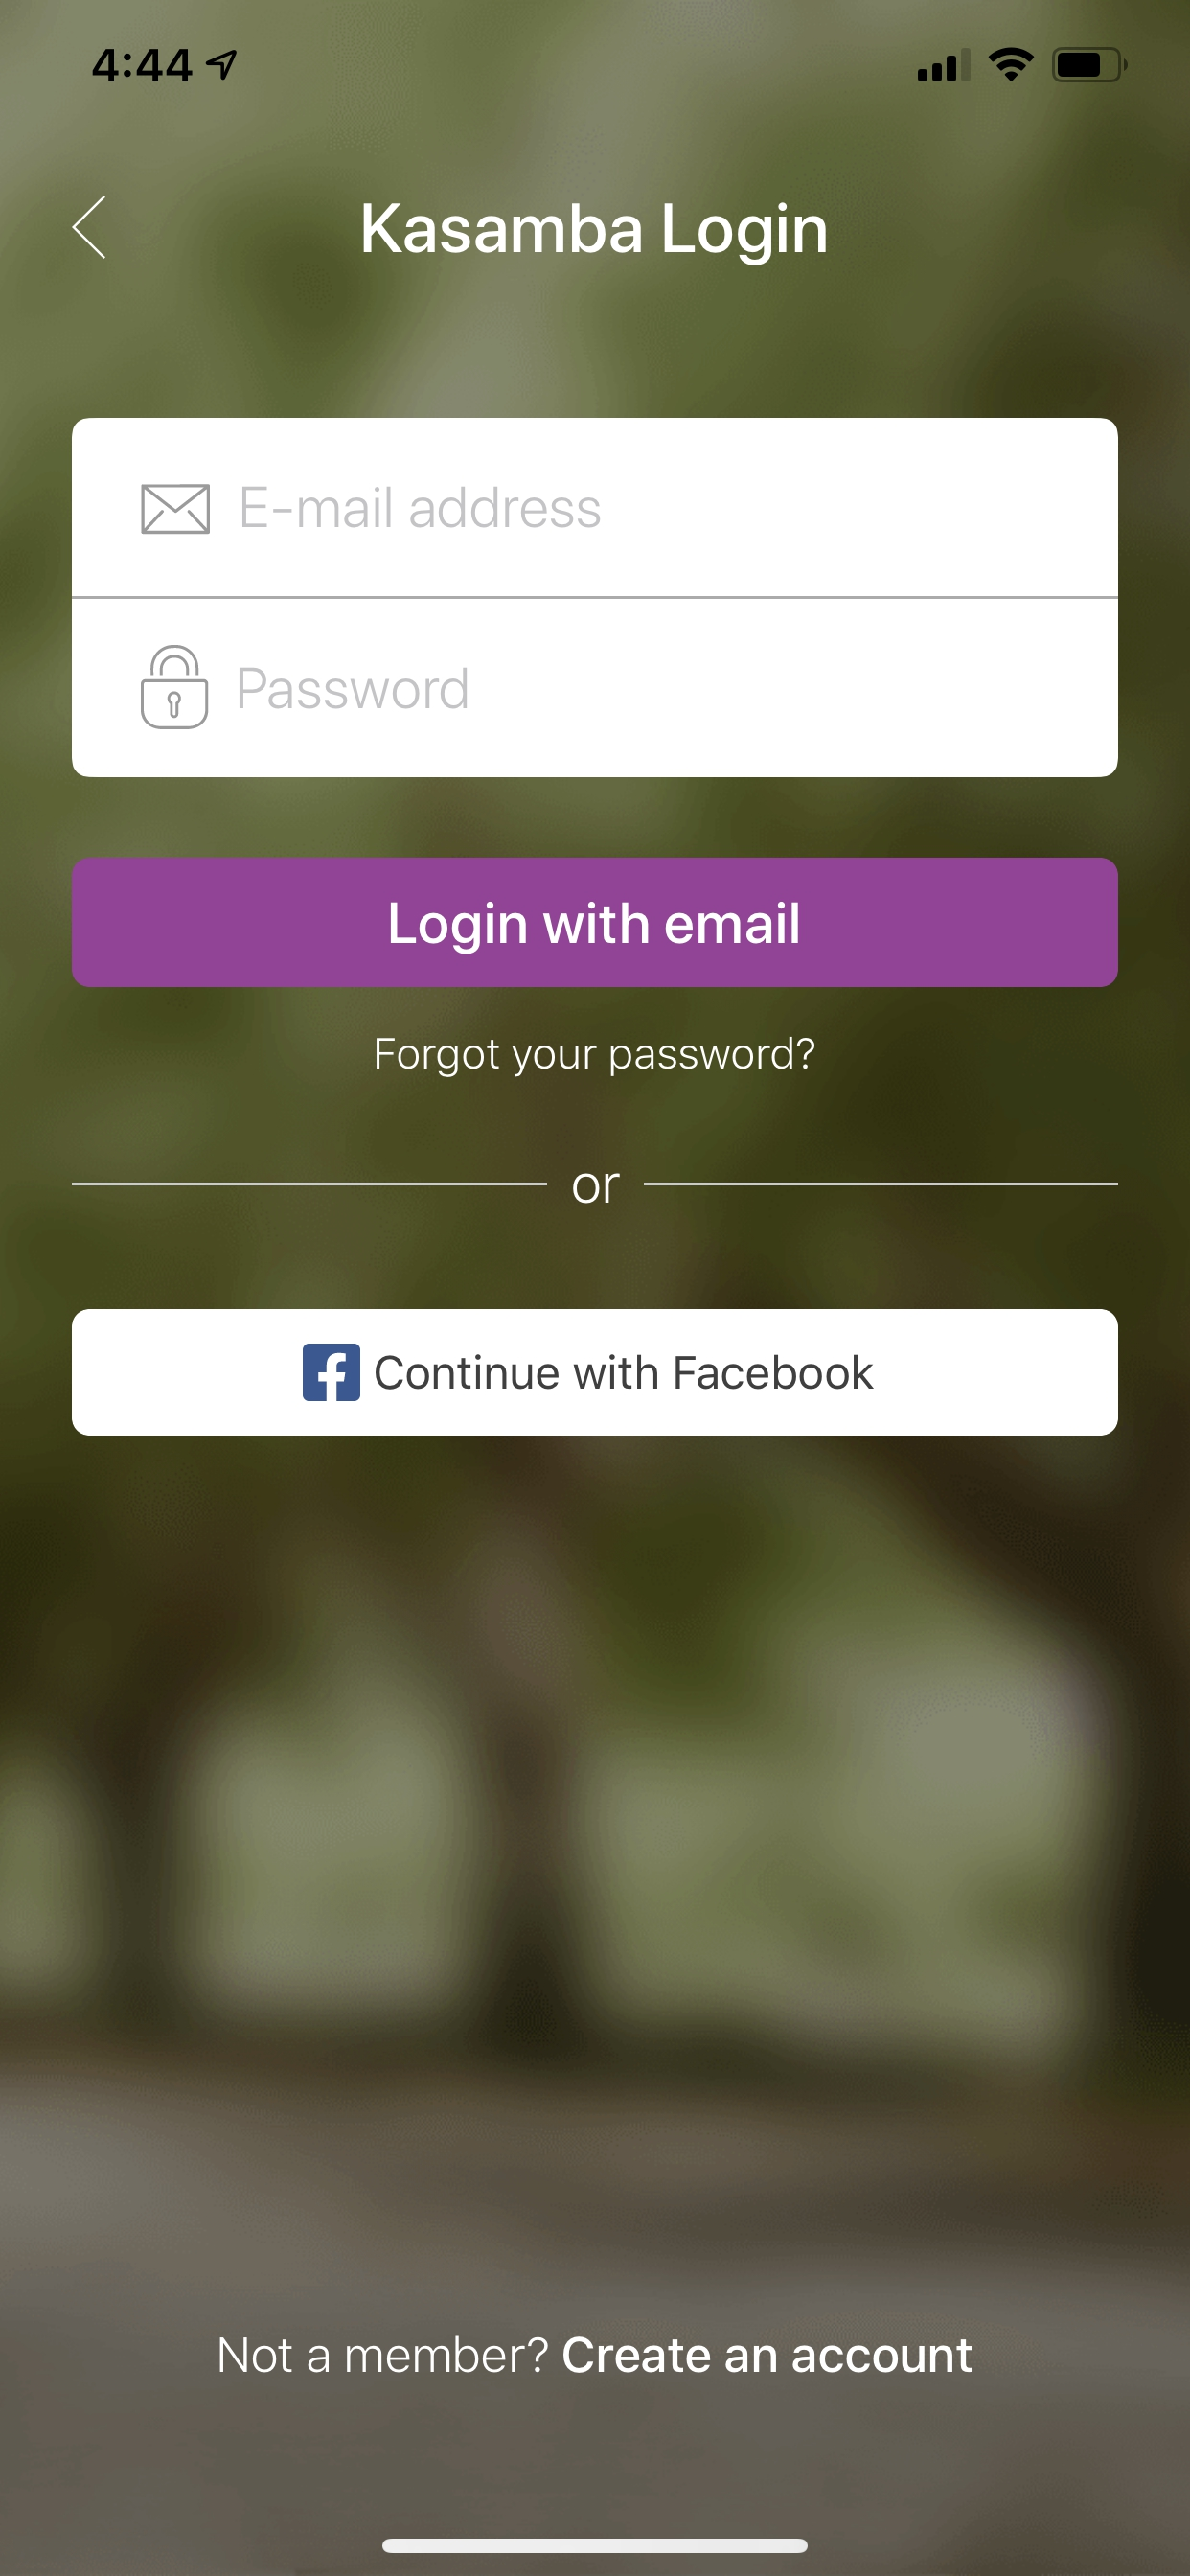BackgroundImage: (2, 2, 1190, 2576)
EditText: (72, 417, 1118, 596), (72, 600, 1118, 777)
Icon: (141, 646, 209, 729), (141, 485, 210, 536), (72, 195, 107, 260)
Text: (363, 202, 825, 266), (219, 2336, 971, 2372), (376, 1037, 814, 1078), (242, 486, 600, 527), (240, 667, 467, 710), (574, 1173, 620, 1204)
TextButton: (71, 858, 1118, 987), (72, 1309, 1118, 1436)
UpperTaskBar: (94, 48, 1128, 82)
